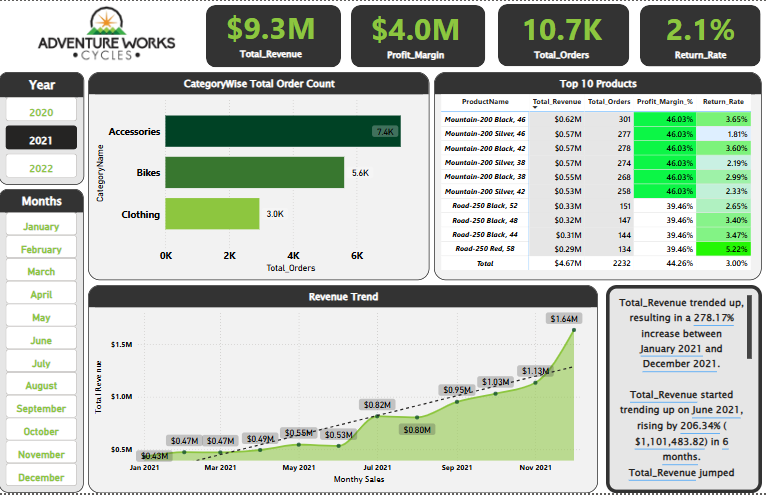

What the dashboard file says about the page in this screenshot:
{"tool":"powerbi","page":{"name":"Revenue DashBoard","canvas":[1280,820],"ordinal":5},"visuals":[{"type":"group","id":"g1","title":"KPIs","box":[345.3,1.8,934.9,109.6],"z":0},{"type":"card","fields":{"Values":["Measure_Table.Total_Revenue"]},"box":[353.1,1.8,200,103.8],"z":0,"group":"g3"},{"type":"group","id":"g2","title":"KPI Backgrounds","box":[345.3,5.7,925.7,105.7],"z":0,"group":"g1"},{"type":"shape","box":[345.3,7.3,225,103.8],"z":0,"group":"g2"},{"type":"group","id":"g3","title":"KPI Values","box":[353.1,1.8,927.1,104.3],"z":1000,"group":"g1"},{"type":"card","fields":{"Values":["Measure_Table.Profit_Margin"]},"box":[593.8,5.6,202.5,100],"z":1000,"group":"g3"},{"type":"shape","box":[831.5,5.7,218.8,103.8],"z":1000,"group":"g2"},{"type":"clusteredBarChart","title":"CategoryWise Total Order Count","fields":{"Category":["Product Categories Lookup.CategoryName"],"Y":["Measure_Table.Total_Orders"]},"box":[148.9,118.9,568.9,346.7],"z":1000},{"type":"card","fields":{"Values":["Measure_Table.Total_Orders"]},"box":[836.3,5.6,202.5,100],"z":2000,"group":"g3"},{"type":"shape","box":[586.5,6.9,223.8,103.8],"z":2000,"group":"g2"},{"type":"lineChart","title":"Revenue Trend","fields":{"Y":["Measure_Table.Total_Revenue"],"Category":["Calendar Lookup.Date.Variation.Date Hierarchy.Year","Calendar Lookup.Date.Variation.Date Hierarchy.Month"]},"box":[148.3,473.3,850,346.7],"z":2000},{"type":"card","fields":{"Values":["Measure_Table.Return_Rate"]},"box":[1058.8,5.6,222.5,100],"z":3000,"group":"g3"},{"type":"shape","box":[1069,6.8,201.2,102.5],"z":3000,"group":"g2"},{"type":"pivotTable","title":"Top 10 Products","fields":{"Rows":["Product Lookup.ProductName"],"Values":["Measure_Table.Total_Revenue","Measure_Table.Total_Orders","Measure_Table.Profit_Margin_%","Measure_Table.Return_Rate"]},"box":[725,118,546,347],"z":3000},{"type":"image","box":[51.4,0,250,110],"z":4000},{"type":"advancedSlicerVisual","title":"Year","fields":{"Values":["Calendar Lookup.Date.Variation.Date Hierarchy.Year"]},"box":[0,118.3,141.7,188.3],"z":5000},{"type":"advancedSlicerVisual","title":"Months","fields":{"Values":["Calendar Lookup.Date.Variation.Date Hierarchy.Month"]},"box":[0,314,141,506],"z":6000},{"type":"textbox","box":[1011.7,473.3,260,346.7],"z":6001}]}

Visuals, with their boxes in screenshot pixels (x1, y1, x2, y2), scaled from the page's 1280x820 canvas onto the 767x496 screenshot:
"KPIs" group: {"x1": 207, "y1": 1, "x2": 766, "y2": 67}
card - Measure_Table.Total_Revenue: {"x1": 212, "y1": 1, "x2": 331, "y2": 64}
"KPI Backgrounds" group: {"x1": 207, "y1": 3, "x2": 762, "y2": 67}
shape: {"x1": 207, "y1": 4, "x2": 342, "y2": 67}
"KPI Values" group: {"x1": 212, "y1": 1, "x2": 766, "y2": 64}
card - Measure_Table.Profit_Margin: {"x1": 356, "y1": 3, "x2": 477, "y2": 64}
shape: {"x1": 498, "y1": 3, "x2": 629, "y2": 66}
"CategoryWise Total Order Count" clusteredBarChart: {"x1": 89, "y1": 72, "x2": 430, "y2": 282}
card - Measure_Table.Total_Orders: {"x1": 501, "y1": 3, "x2": 622, "y2": 64}
shape: {"x1": 351, "y1": 4, "x2": 486, "y2": 67}
"Revenue Trend" lineChart: {"x1": 89, "y1": 286, "x2": 598, "y2": 495}
card - Measure_Table.Return_Rate: {"x1": 634, "y1": 3, "x2": 766, "y2": 64}
shape: {"x1": 641, "y1": 4, "x2": 761, "y2": 66}
"Top 10 Products" pivotTable: {"x1": 434, "y1": 71, "x2": 762, "y2": 281}
image: {"x1": 31, "y1": 0, "x2": 181, "y2": 67}
"Year" advancedSlicerVisual: {"x1": 0, "y1": 72, "x2": 85, "y2": 185}
"Months" advancedSlicerVisual: {"x1": 0, "y1": 190, "x2": 84, "y2": 495}
textbox: {"x1": 606, "y1": 286, "x2": 762, "y2": 495}
